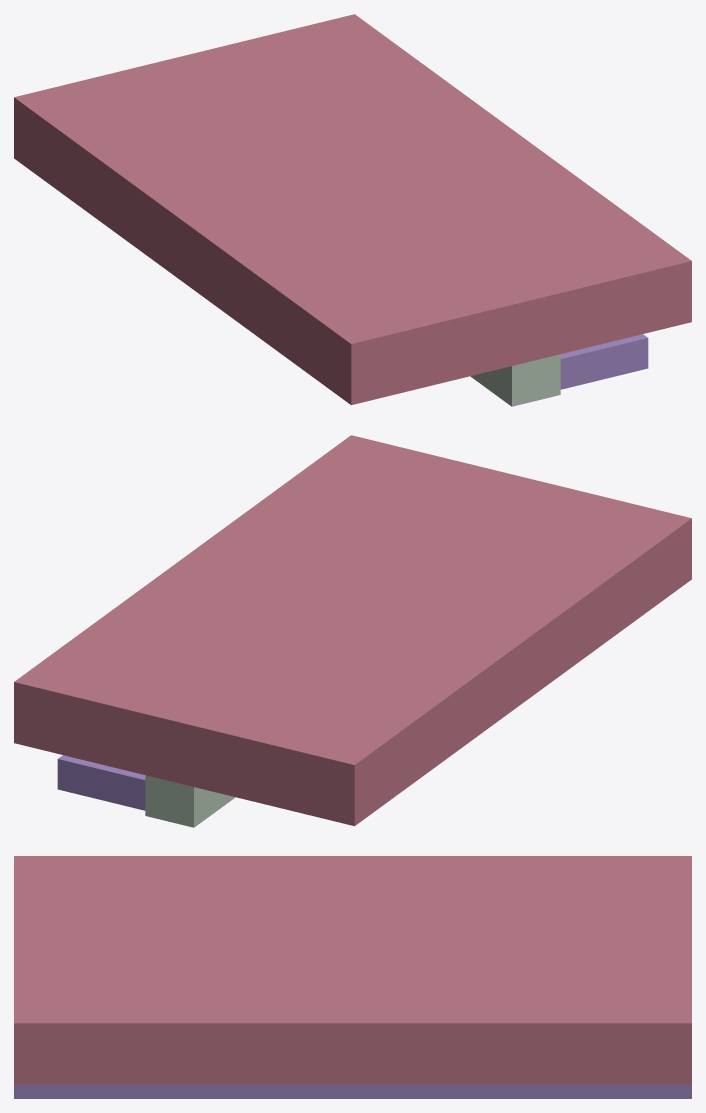
3 renders of one model, top to bottom at view 1: azimuth 30°, elevation 25°; view 2: azimuth 150°, elevation 25°; view 3: azimuth 270°, elevation 25°, orthographic.
Parts seen in each view (by area): view 1: world; view 2: world; view 3: world.
Part boxes in pixels (x1,y1,x2,y2): world: [14, 14, 691, 406]; world: [14, 435, 691, 827]; world: [14, 856, 691, 1098].
Bounding box in the file's own units: 3.5 × 1 × 6.
